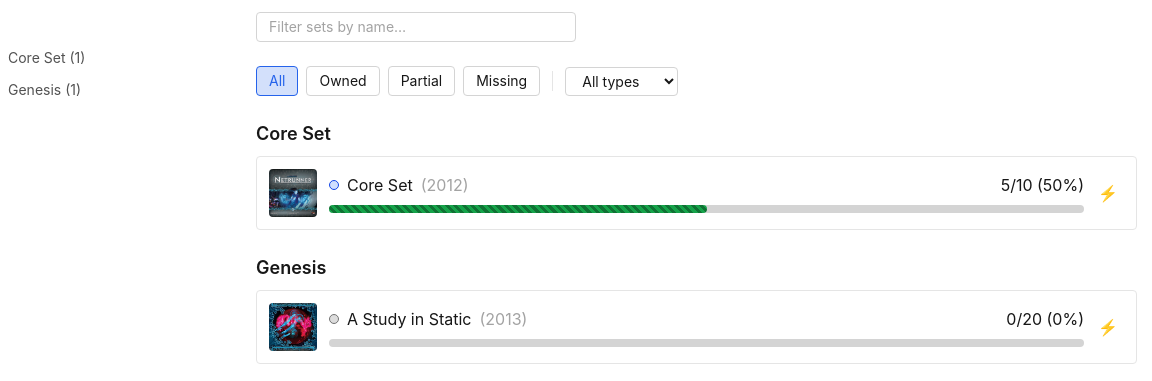
Test: SetProgressList › the "Missing" filter hides sets with at least one owned card
Click the button "Missing".
click(502, 81)  # box [463, 66, 540, 96]
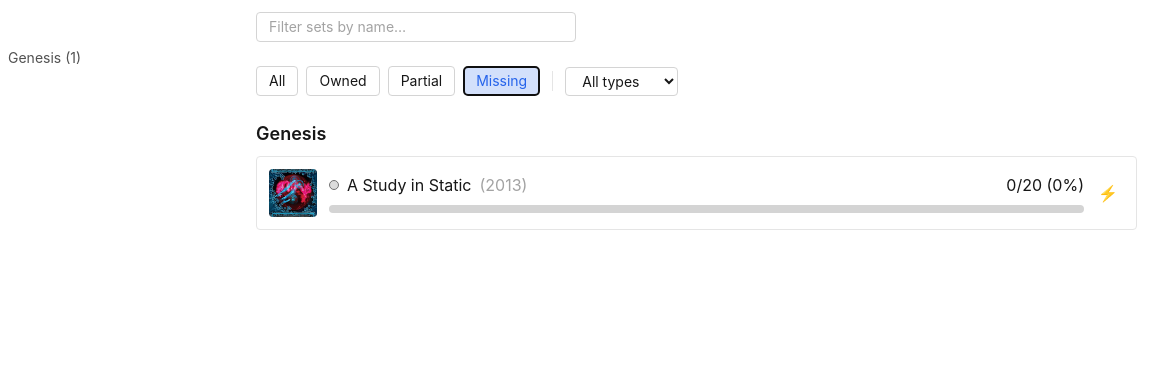
Expected: the text "A Study in Static" is shown, [347, 175, 472, 195]
Now the link "Core Set" is gone
